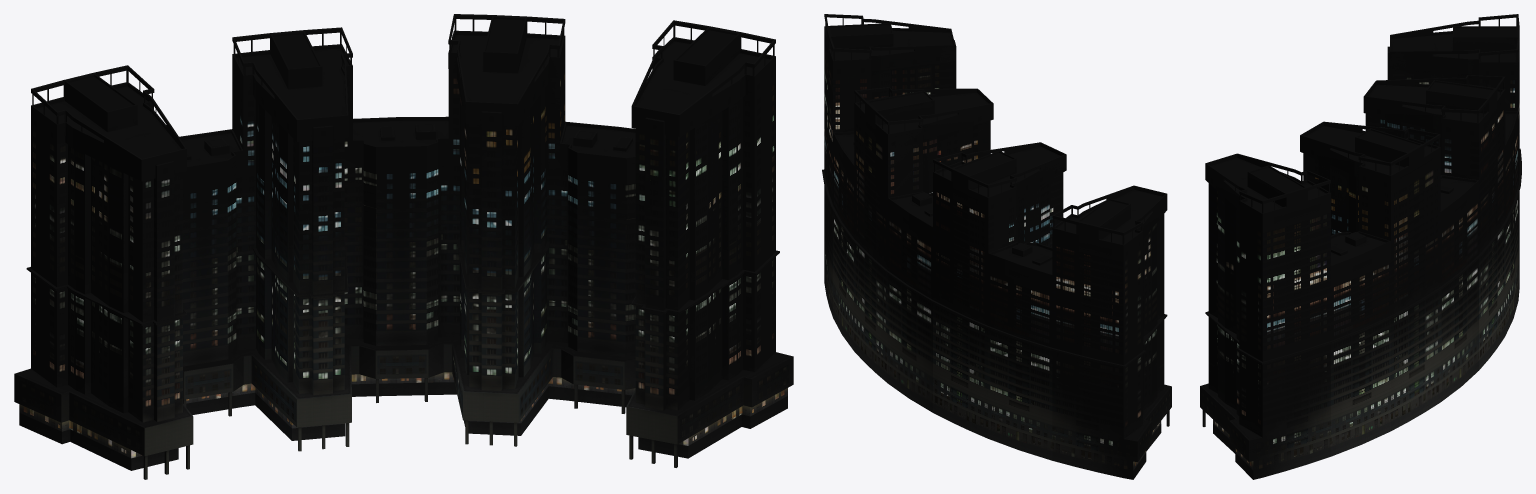
Rendered from Builkd2.gltf.
The picture shows the model from 3 angles, left to right: view 1: azimuth 30°, elevation 25°; view 2: azimuth 150°, elevation 25°; view 3: azimuth 270°, elevation 25°; orthographic projection. The views are drawn at different scales.
Parts seen in each view (by area): view 1: LOD0; view 2: LOD0; view 3: LOD0.
Boxes of the visible parts, x1,y1,x2,y2 form: LOD0: [14, 14, 793, 479]; LOD0: [822, 14, 1171, 479]; LOD0: [1200, 14, 1521, 479].
Size of the model in its own units: 2.01 by 1.17 by 1.23.
Materials: 1 (1 with a texture image).
